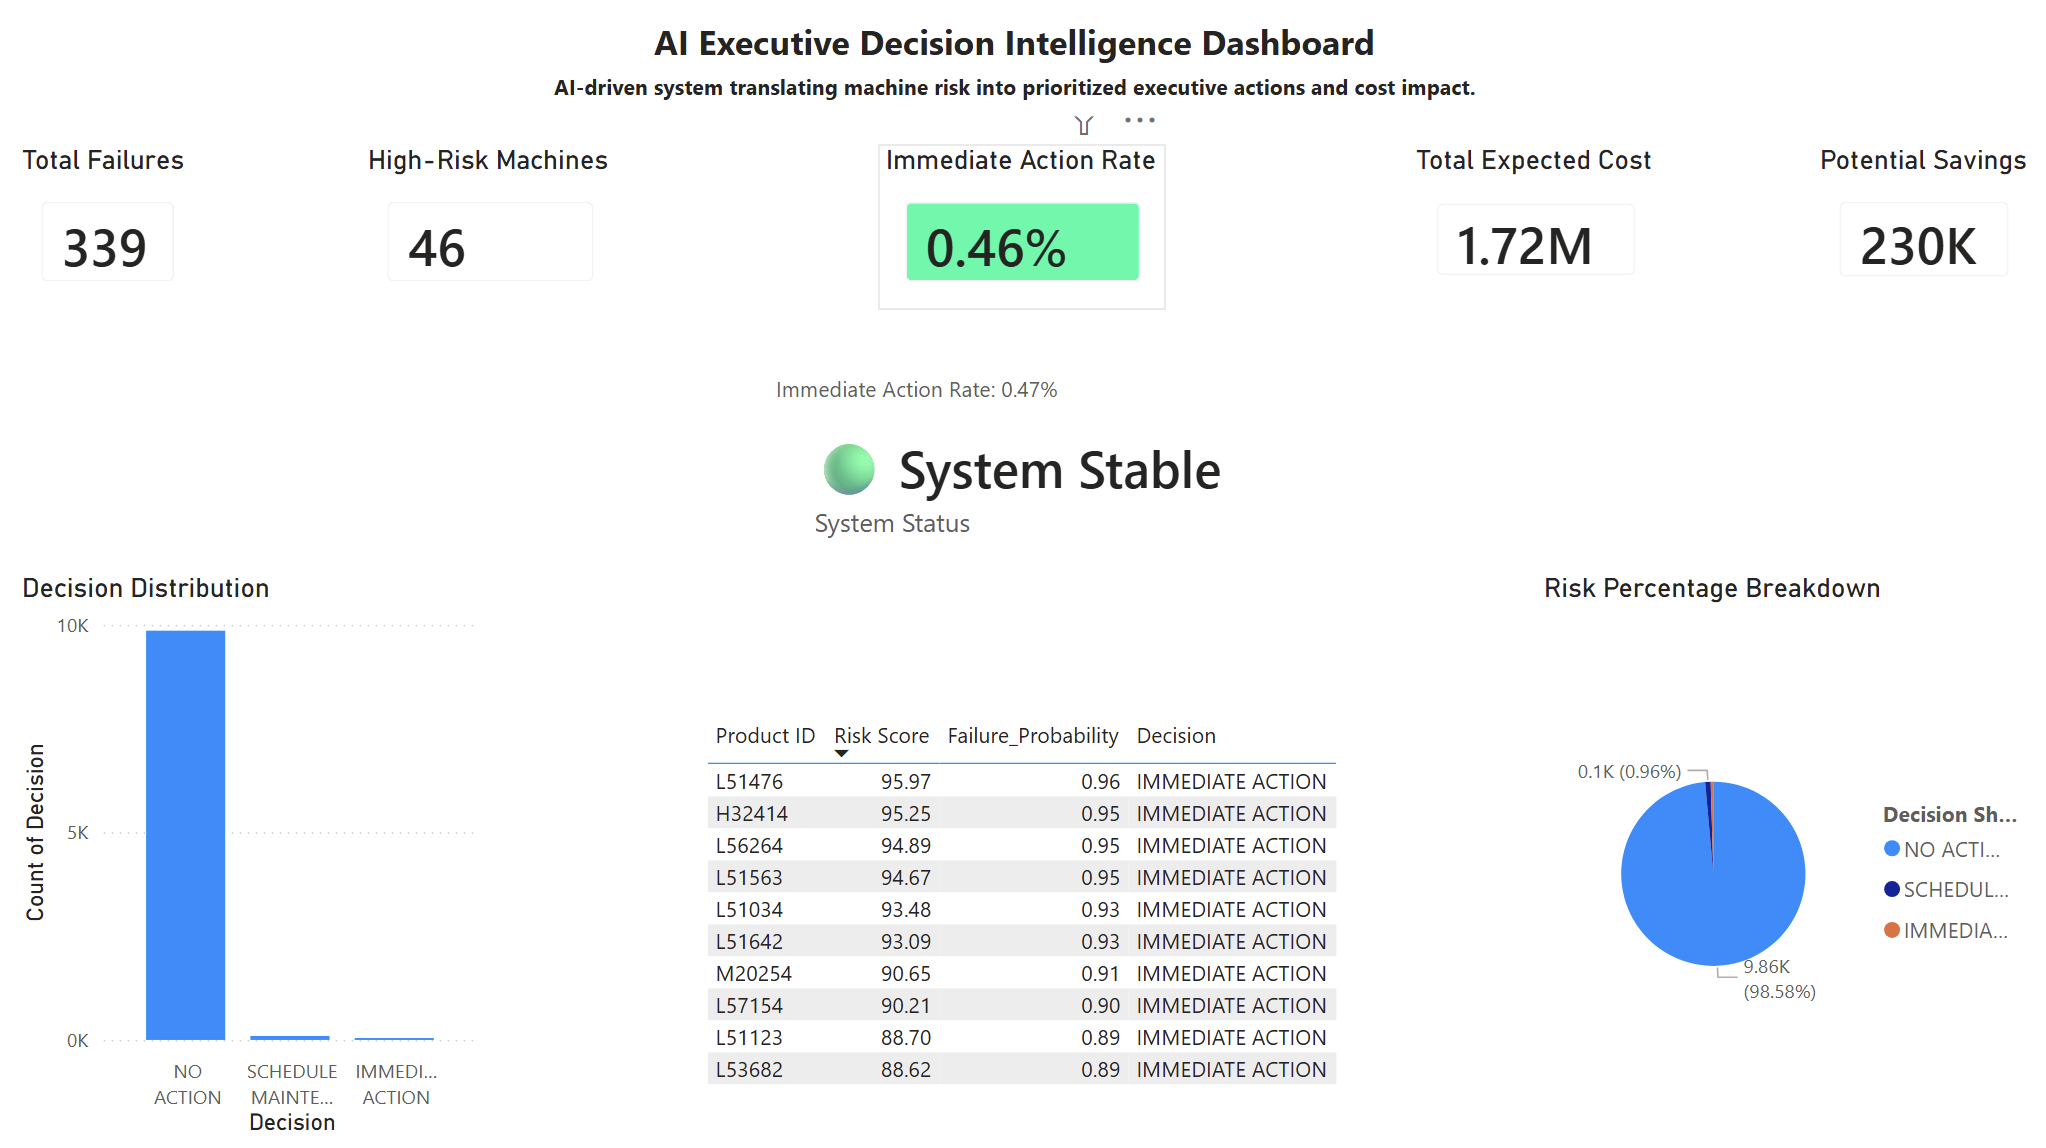

The dashboard page shown, as its layout file describes it:
{"tool":"powerbi","page":{"name":"Page 1","canvas":[1280,720],"ordinal":0},"visuals":[{"type":"cardVisual","title":"Total Failures","fields":{"Data":["Sum(executive_decision_output.Failure)"]},"box":[10.2,93.1,117.3,103.3],"z":0},{"type":"cardVisual","title":"Potential Savings","fields":{"Data":["executive_decision_output.Total Savings"]},"box":[1133.4,93.1,140.2,100.7],"z":1000},{"type":"cardVisual","title":"Total Expected Cost","fields":{"Data":["Sum(executive_decision_output.Expected Cost)"]},"box":[881,93.1,160.6,100.7],"z":2000},{"type":"cardVisual","title":"High-Risk Machines","fields":{"Data":["executive_decision_output.High_Risk_Machines"]},"box":[225.7,93.1,163.2,103.3],"z":3000},{"type":"clusteredColumnChart","title":"Decision Distribution","fields":{"Category":["executive_decision_output.Decision"],"Y":["CountNonNull(executive_decision_output.Decision)"]},"box":[10.1,359.5,296.2,357],"z":4000},{"type":"pieChart","title":"Risk Percentage Breakdown","fields":{"Category":["executive_decision_output.Decision"],"Y":["CountNonNull(executive_decision_output.Decision)"]},"box":[960.8,359.5,312.7,358.2],"z":5000},{"type":"cardVisual","title":"Immediate Action Rate","fields":{"Data":["executive_decision_output.Immediate Action %"]},"box":[549.5,93.1,181,103.3],"z":6000},{"type":"cardVisual","fields":{"Data":["executive_decision_output.System Status"]},"box":[481,231.6,317.7,127.8],"z":7000},{"type":"tableEx","fields":{"Values":["executive_decision_output.Product ID","executive_decision_output.Risk Score","executive_decision_output.Failure_Probability","executive_decision_output.Decision"]},"box":[438,446.8,405.1,270.9],"z":8000},{"type":"textbox","box":[10,196,296,163],"z":9000},{"type":"textbox","box":[405.4,8.9,469.2,66.3],"z":10000},{"type":"textbox","box":[342.5,42.5,595,30],"z":10001}]}

Visuals, with their boxes in screenshot pixels (x1, y1, x2, y2), scaled from the page's 1280x720 canvas onto the 2046x1148 screenshot:
"Total Failures" cardVisual: x1=16 y1=148 x2=204 y2=313
"Potential Savings" cardVisual: x1=1812 y1=148 x2=2036 y2=309
"Total Expected Cost" cardVisual: x1=1408 y1=148 x2=1665 y2=309
"High-Risk Machines" cardVisual: x1=361 y1=148 x2=622 y2=313
"Decision Distribution" clusteredColumnChart: x1=16 y1=573 x2=490 y2=1142
"Risk Percentage Breakdown" pieChart: x1=1536 y1=573 x2=2036 y2=1144
"Immediate Action Rate" cardVisual: x1=878 y1=148 x2=1168 y2=313
cardVisual - executive_decision_output.System Status: x1=769 y1=369 x2=1277 y2=573
tableEx - executive_decision_output.Product ID x executive_decision_output.Risk Score: x1=700 y1=712 x2=1348 y2=1144
textbox: x1=16 y1=313 x2=489 y2=572
textbox: x1=648 y1=14 x2=1398 y2=120
textbox: x1=547 y1=68 x2=1499 y2=116
